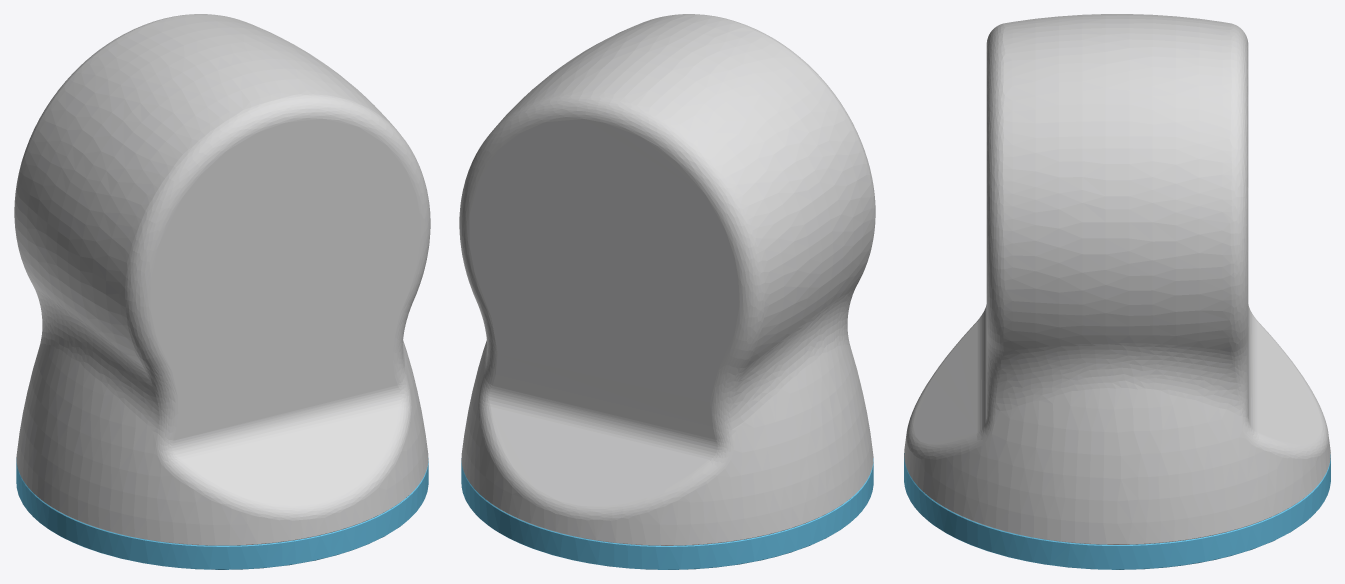
3 views of the same model, side by side, from view 1: azimuth 30°, elevation 25°; view 2: azimuth 150°, elevation 25°; view 3: azimuth 270°, elevation 25° (orthographic). The views are drawn at different scales.
Visible parts, largest first — view 1: Untitled_001; view 2: Untitled_001; view 3: Untitled_001.
Part boxes in pixels (<box>): Untitled_001: <box>14,14,430,569</box>; Untitled_001: <box>459,14,875,569</box>; Untitled_001: <box>904,14,1330,569</box>.
Bounding box in the file's own units: 0.155 × 0.155 × 0.1795.
